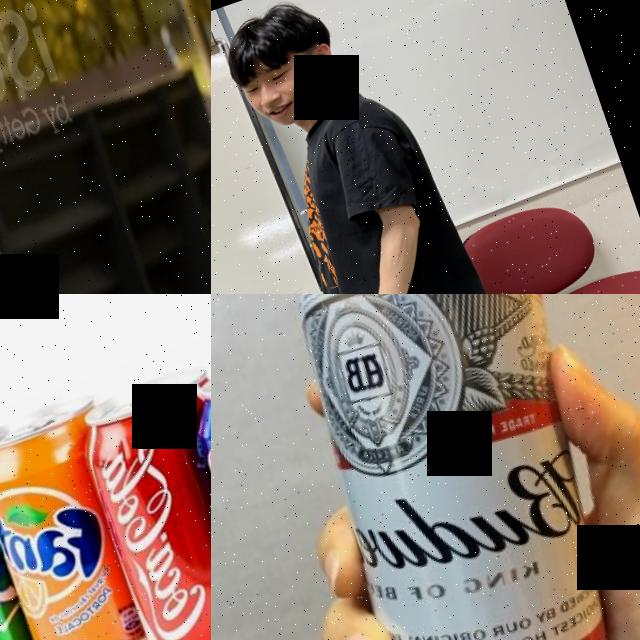can: (246, 294, 640, 640), (0, 390, 178, 640), (65, 362, 211, 640), (0, 423, 58, 640)
